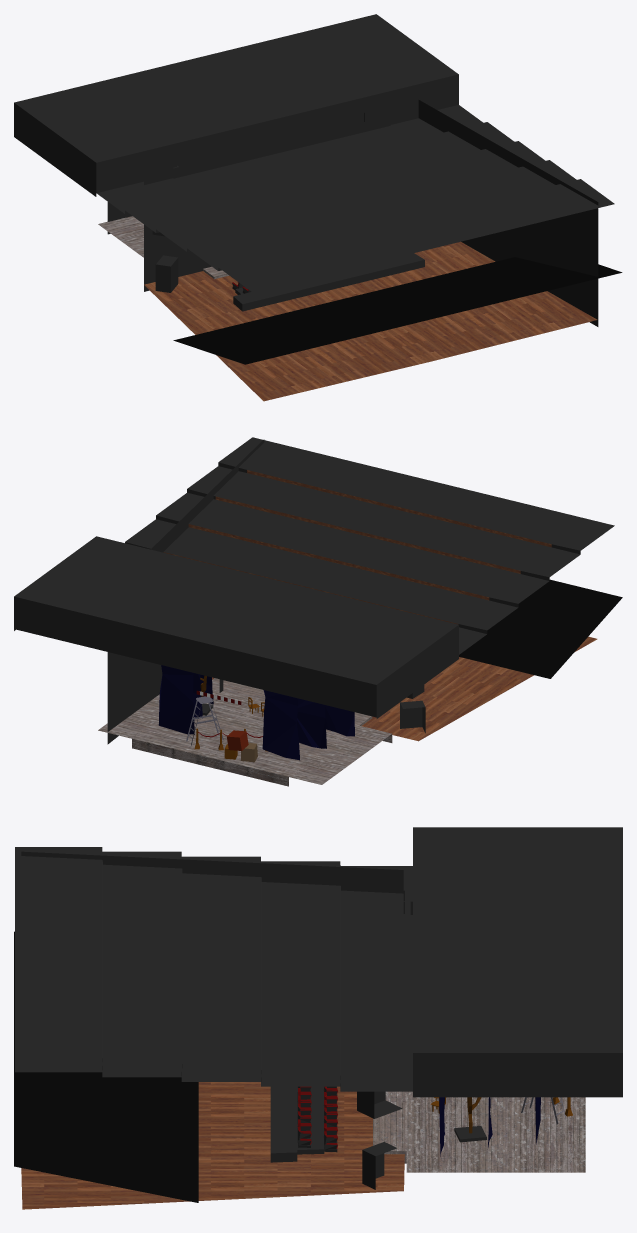
File: Stage5.glb
The picture shows the model from 3 angles, top to bottom: view 1: azimuth 30°, elevation 25°; view 2: azimuth 150°, elevation 25°; view 3: azimuth 270°, elevation 25°; orthographic projection. The views are drawn at different scales.
Parts seen in each view (by area): view 1: Roof, Floor, BackWall, Wall.001, Stage-wall, Cube.002, Wall, Stage-floor, Cube.009; view 2: Roof, Stage-floor, BackWall, Floor, Stage-wall, Curtain.006, Curtain.005, Curtain.004, Wall.001, Curtain, Cube.009; view 3: Roof, BackWall, Floor, Stage-floor, Wall, Cube.002, Cube, Cube.017, Cube.004, Cube.001, Cube.018, Cube.021.
Part boxes in pixels (box(x1,y1,x2,y2)): Roof: box(14, 14, 614, 292); Floor: box(144, 241, 597, 401); BackWall: box(173, 257, 622, 364); Wall.001: box(364, 99, 598, 326); Stage-wall: box(107, 115, 390, 276); Cube.002: box(233, 253, 424, 311); Wall: box(144, 159, 176, 291); Stage-floor: box(98, 216, 228, 279); Cube.009: box(155, 255, 178, 292); Roof: box(14, 437, 614, 718); Stage-floor: box(98, 678, 392, 786); BackWall: box(459, 579, 622, 678); Floor: box(212, 636, 597, 741); Stage-wall: box(107, 652, 223, 744); Curtain.006: box(262, 690, 299, 760); Curtain.005: box(158, 665, 194, 734); Curtain.004: box(297, 698, 326, 748); Wall.001: box(151, 439, 264, 552); Curtain: box(325, 705, 354, 736); Cube.009: box(400, 700, 425, 733); Roof: box(15, 827, 622, 1097); BackWall: box(14, 931, 198, 1202); Floor: box(21, 1082, 404, 1209); Stage-floor: box(373, 1091, 585, 1172); Wall: box(21, 851, 404, 913); Cube.002: box(270, 1086, 297, 1162); Cube: box(297, 1086, 324, 1154); Cube.017: box(362, 1142, 396, 1189); Cube.004: box(323, 1086, 337, 1152); Cube.001: box(297, 1086, 311, 1147); Cube.018: box(357, 1091, 402, 1118); Cube.021: box(454, 1097, 486, 1142).
Bounding box in the file's own units: 21.01 × 7.58 × 23.02.
Materials: 13 (2 with a texture image).
